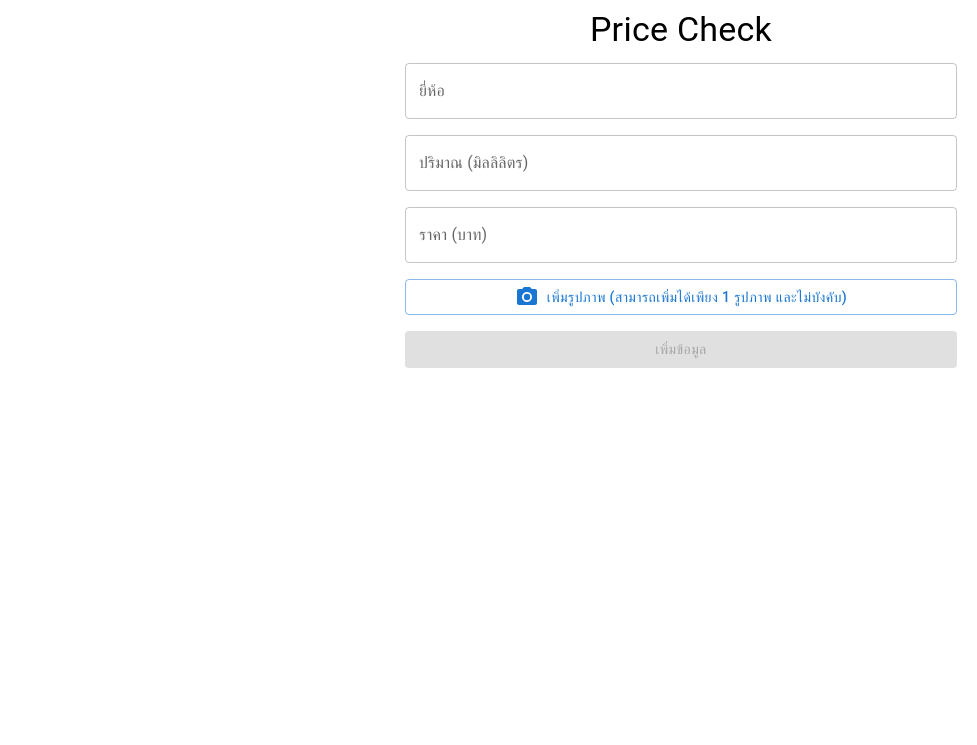
Test: Item Price Check App › adds a new item
// Input data for a new item
In the field labelled "ยี่ห้อ": (681, 91) [405,63,957,119], type "Brand A"
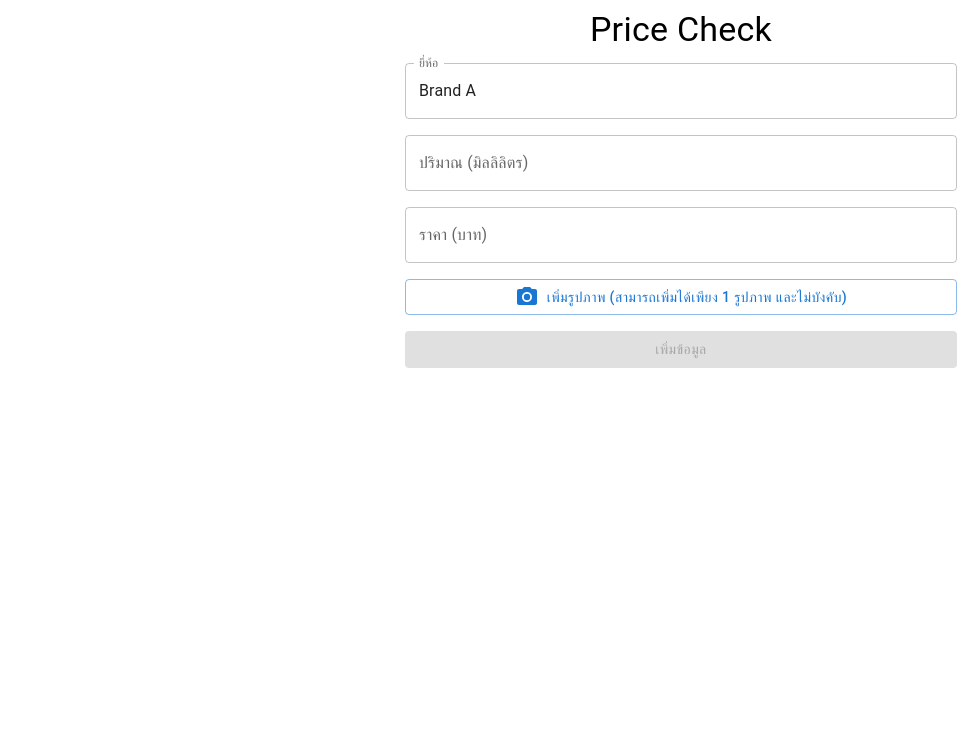
In the field labelled "ปริมาณ (มิลลิลิตร)": (681, 163) [405,135,957,191], type "1000"
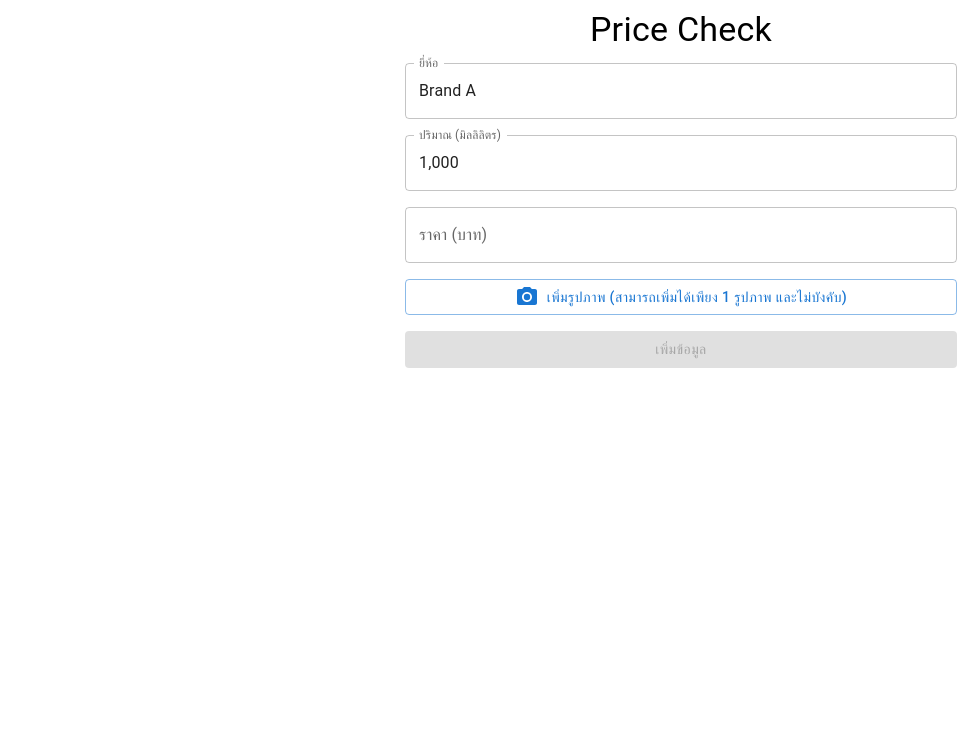
In the field labelled "ราคา (บาท)": (681, 235) [405,207,957,263], type "100"
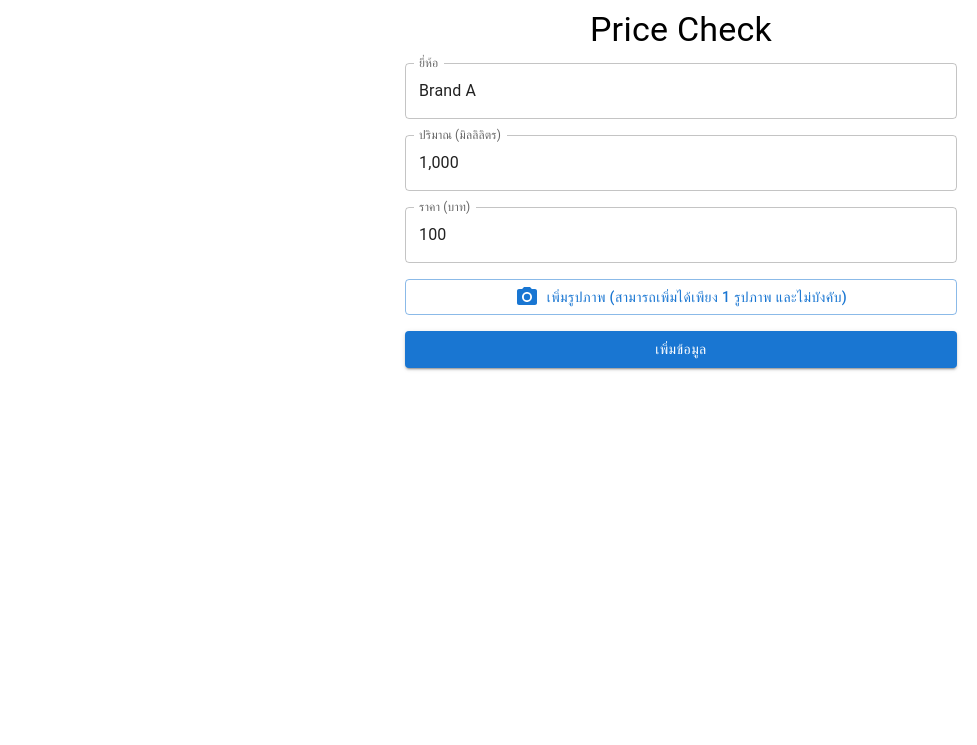
// Click the Add button
Click the button "เพิ่มข้อมูล": (681, 350) [405,331,957,368]
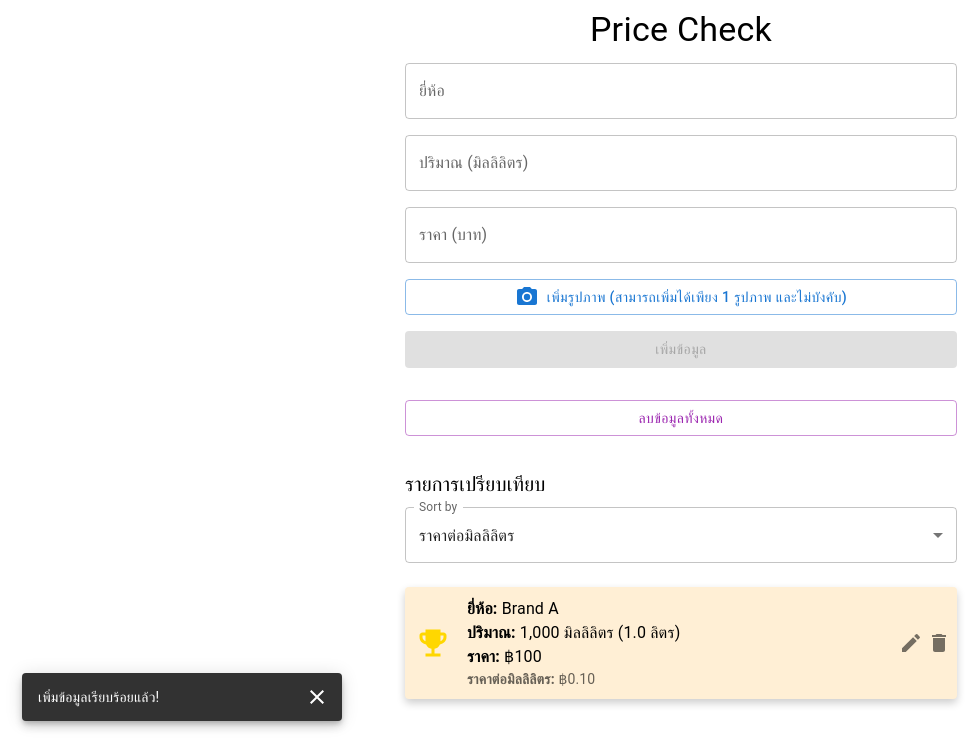
Check: the text "ยี่ห้อ: Brand A" is shown, box [467,599,559,618]
Check: the text "ปริมาณ: 1,000 มิลลิลิตร (1.0 ลิตร)" is shown, box [467,623,680,642]
Check: the text "ราคา: ฿100" is shown, box [467,647,542,666]
